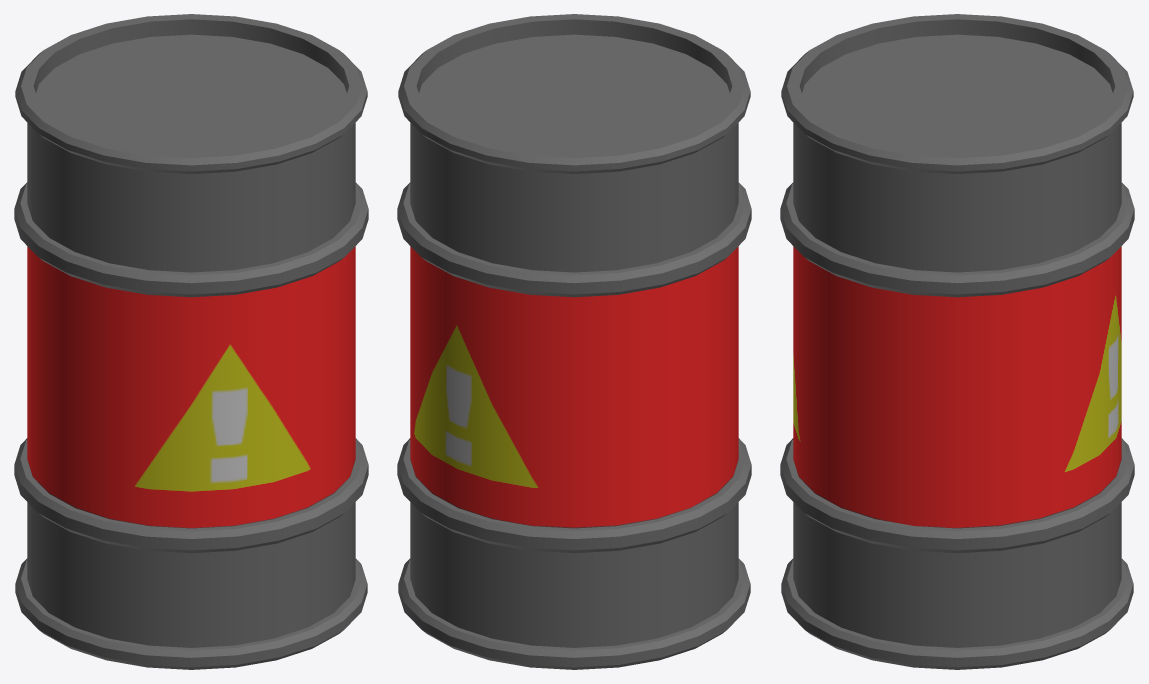
The model's file is ExplosiveMetalBarrel.fbx.
The picture shows the model from 3 angles, left to right: view 1: azimuth 30°, elevation 25°; view 2: azimuth 150°, elevation 25°; view 3: azimuth 270°, elevation 25°; orthographic projection.
Parts seen in each view (by area): view 1: ExplosiveMetalBarrel; view 2: ExplosiveMetalBarrel; view 3: ExplosiveMetalBarrel.
Boxes of the visible parts, x1=… form: ExplosiveMetalBarrel: x1=14, y1=14, x2=368, y2=669; ExplosiveMetalBarrel: x1=397, y1=14, x2=751, y2=669; ExplosiveMetalBarrel: x1=780, y1=14, x2=1134, y2=669.
Bounding box in the file's own units: 81.44 × 130 × 81.44.
Materials: 2 (1 with a texture image).
